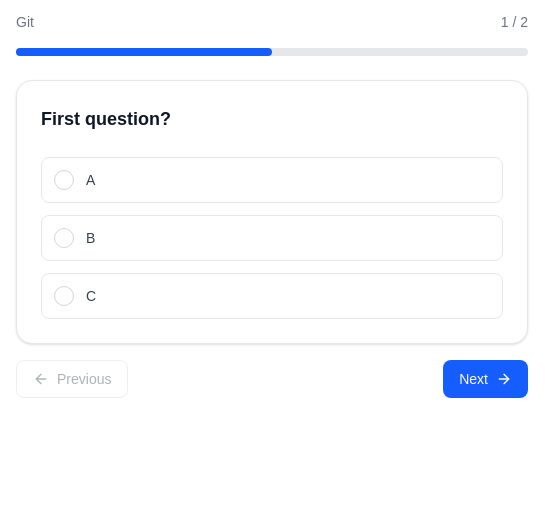
Test case: QuizRunner › scores 100% when all answers are correct
Click the button "B" at (64, 238), box left=41, top=215, right=503, bottom=261
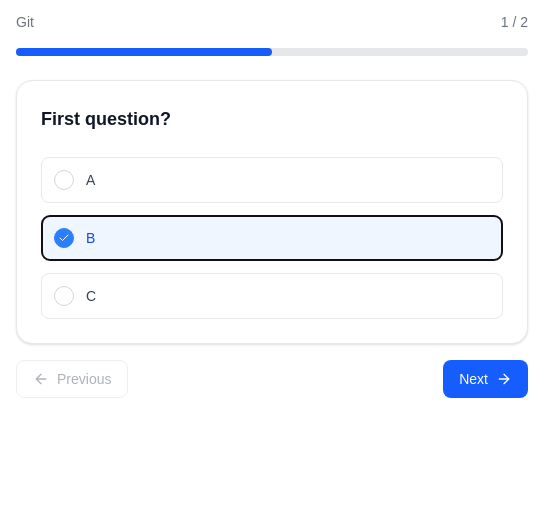
Click the button "Next" at (486, 379), box left=443, top=360, right=528, bottom=398
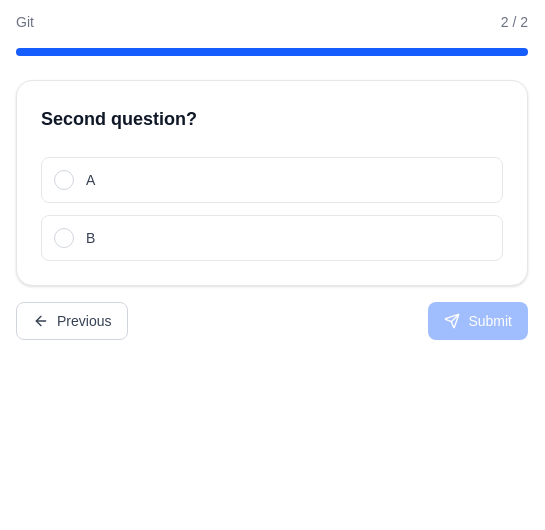
Click the button "A" at (64, 180), box left=41, top=157, right=503, bottom=203
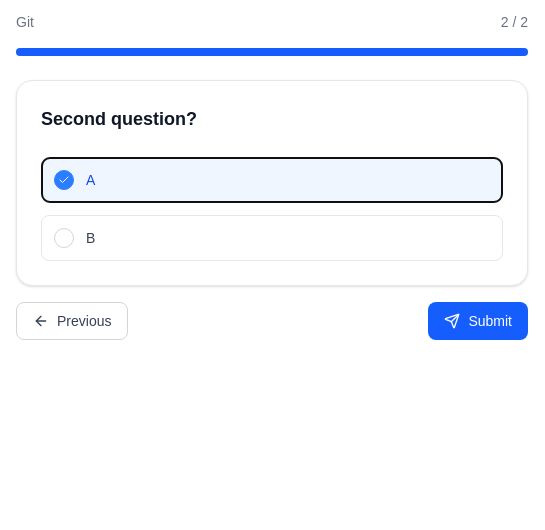
Click the button "Submit" at (478, 321), box left=428, top=302, right=528, bottom=340
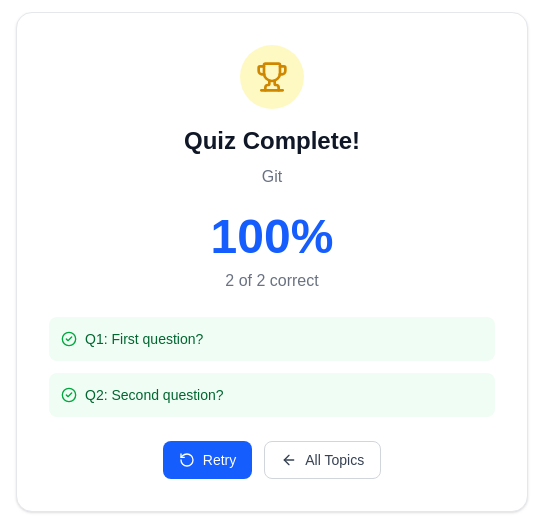
Check: the text "100%" is shown, box left=211, top=210, right=333, bottom=263
